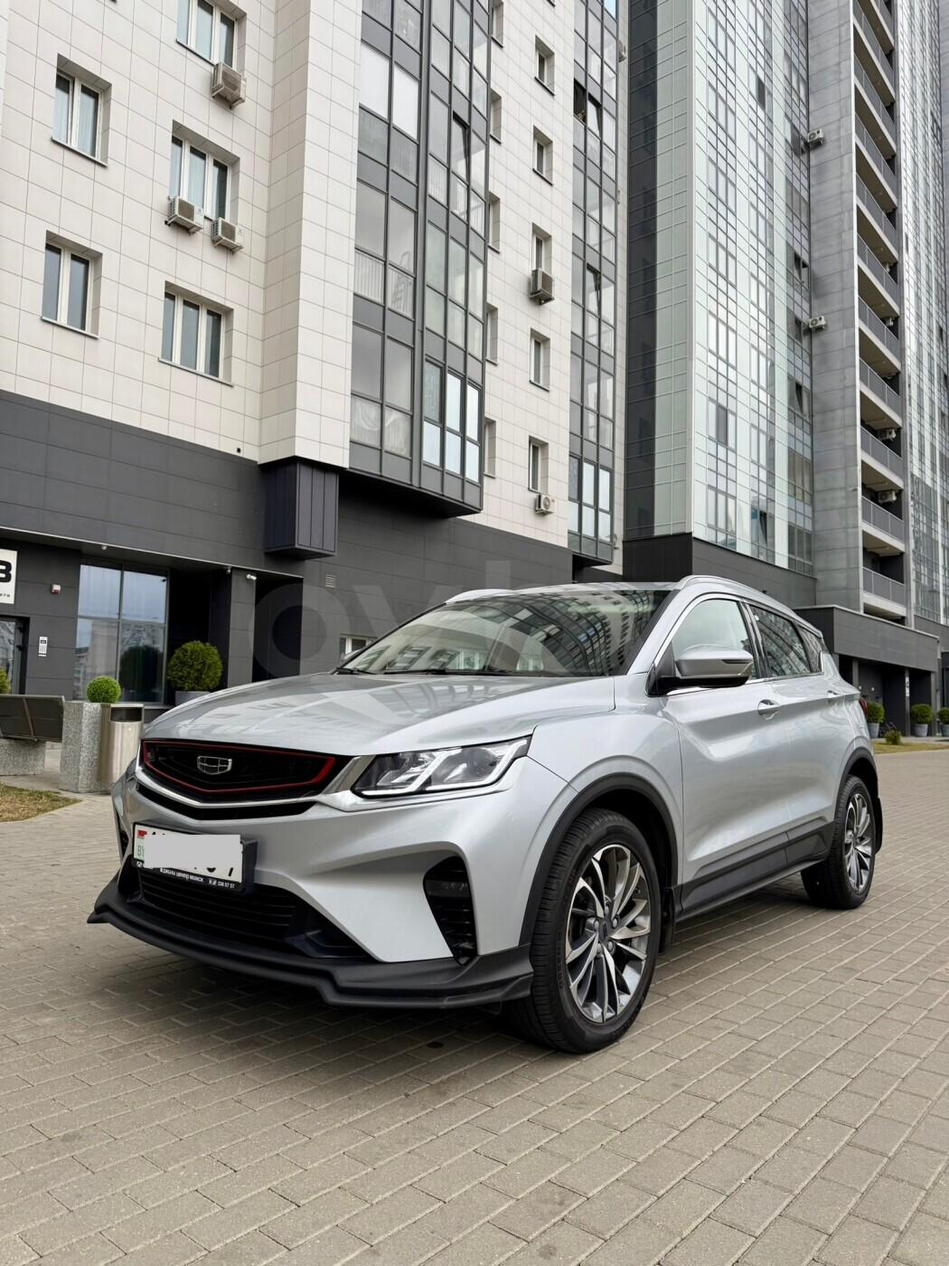Coolray_2019-2023: (107, 573, 900, 1051)
